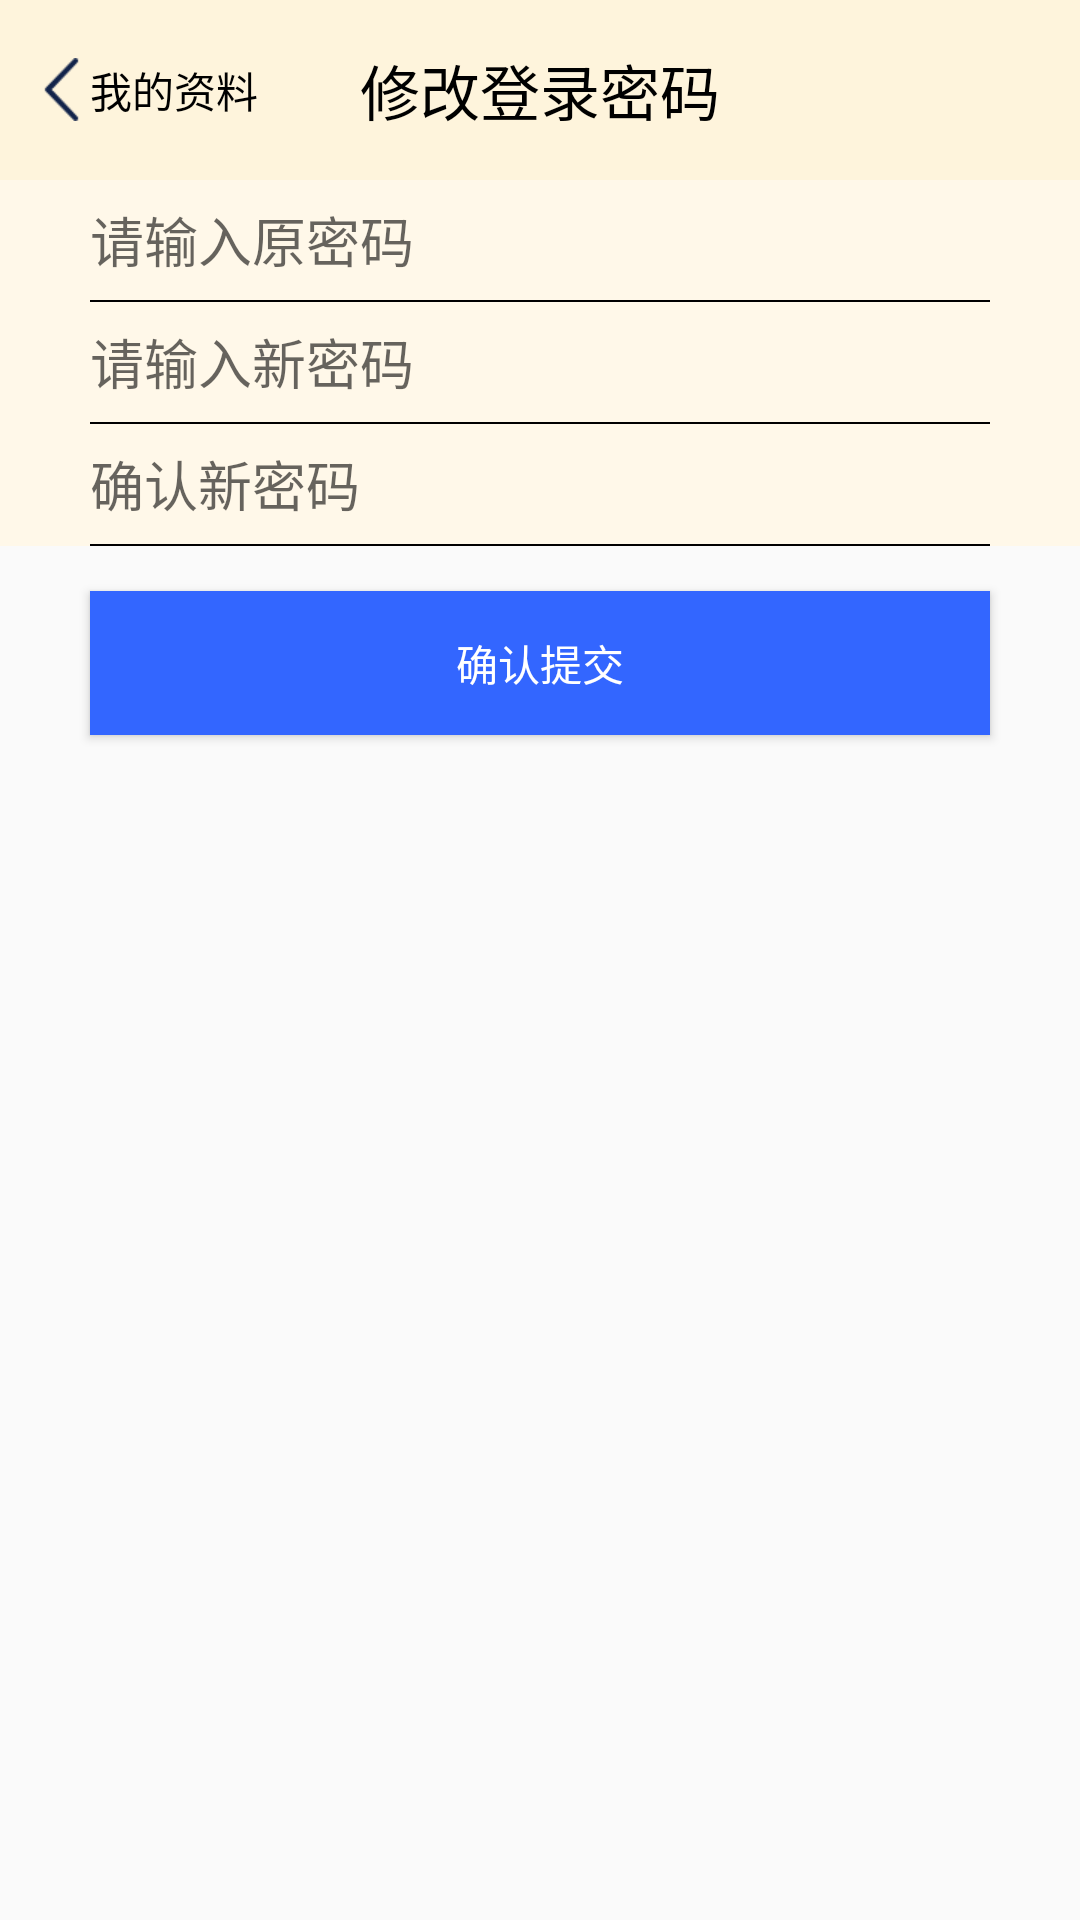

Icons on this 1080px×1920px Android screen, each with its box as (left=x1, top=y1, right=x2, bottom=y2):
back: (left=44, top=58, right=79, bottom=121)
